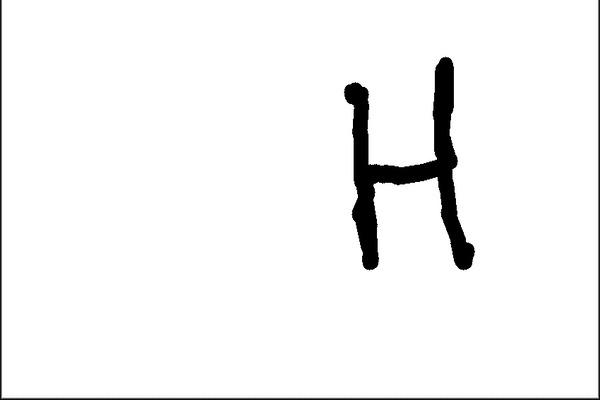H: (340, 52, 480, 277)
